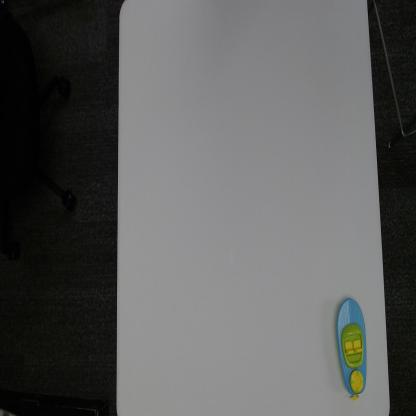Boat: (331, 290, 373, 406)
